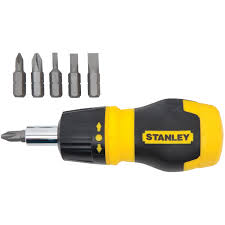screwdriver: (1, 100, 225, 172)
